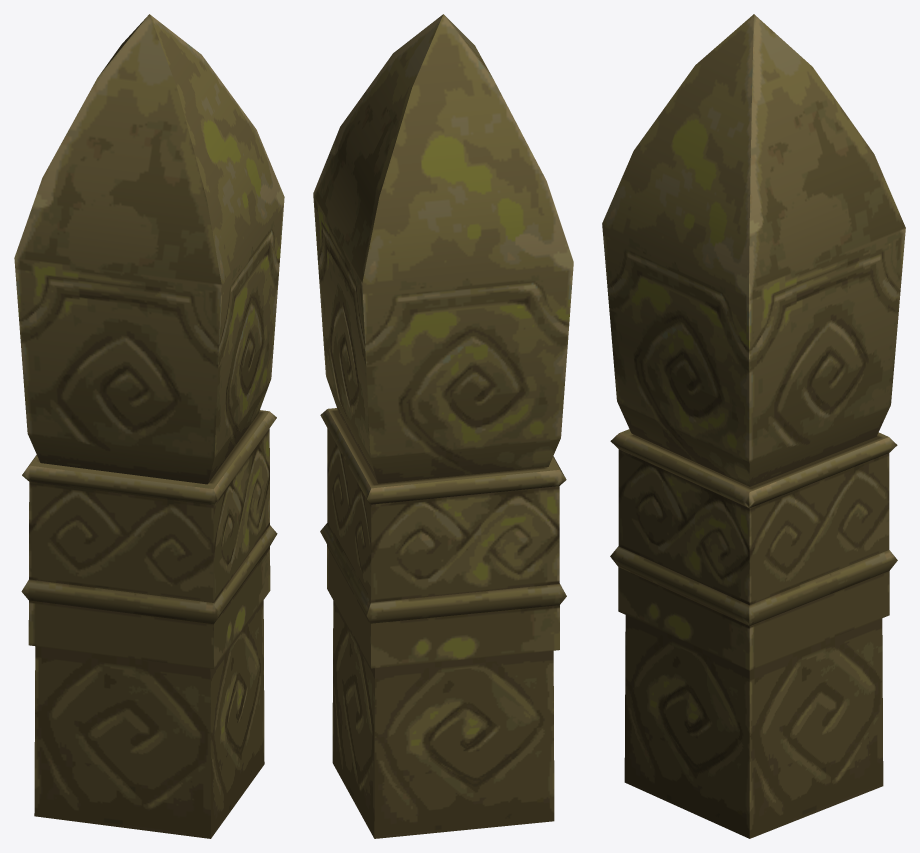
Rendered from standing_stone_01_96615fdb.glb.
The picture shows the model from 3 angles, left to right: view 1: azimuth 30°, elevation 25°; view 2: azimuth 150°, elevation 25°; view 3: azimuth 270°, elevation 25°; orthographic projection.
Size of the model in its own units: 1.37 by 3.83 by 1.37.
Materials: 1 (1 with a texture image).
